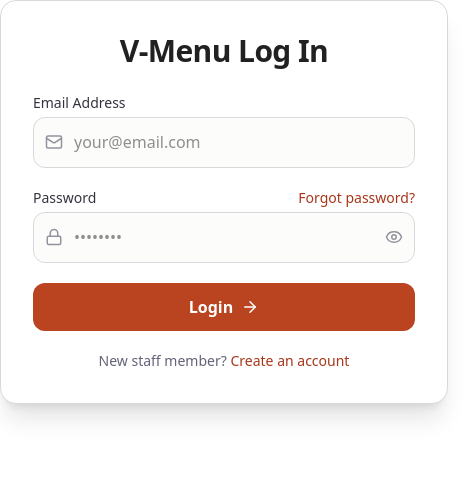
Scenario: creating a staff account at /login (VM-12, VM-13) › creates the account, sends the verification email, and waits for it
Later steps or results of the test are not shown.
Click the button "Create an account" at (290, 361), box [230,351,350,371]
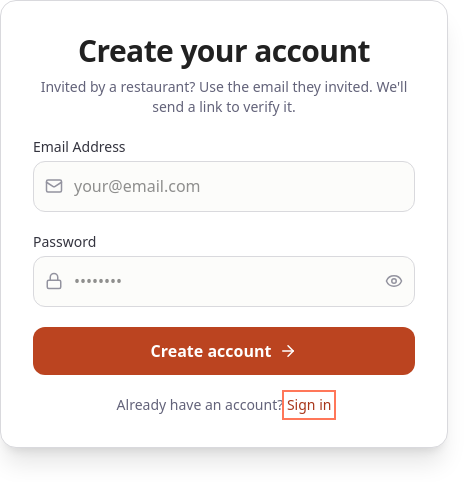
Type "dara@x.test" into the field labelled "Email Address" at (224, 186), box [33,161,415,212]
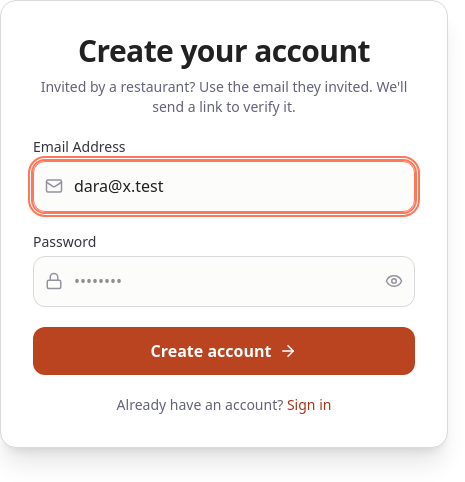
Type "secret-123" into the password field labelled "Password" at (224, 281), box [33,256,415,307]
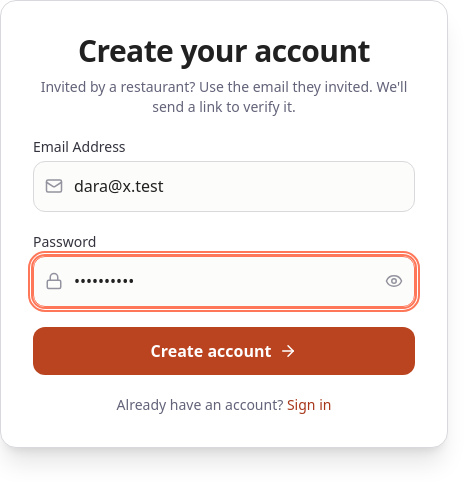
Click the button "Create account" at (224, 351), box [33,327,415,375]
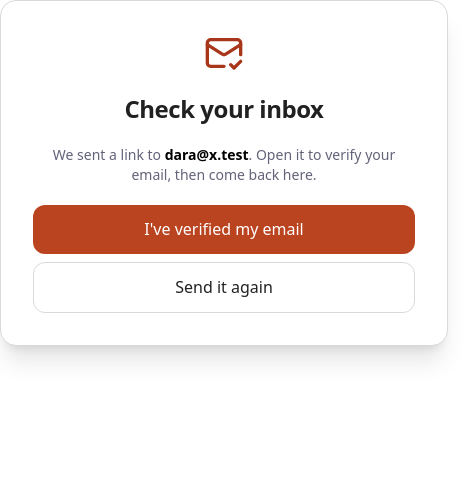
Expected: the heading "Check your inbox" is shown, [124,92,324,125]
